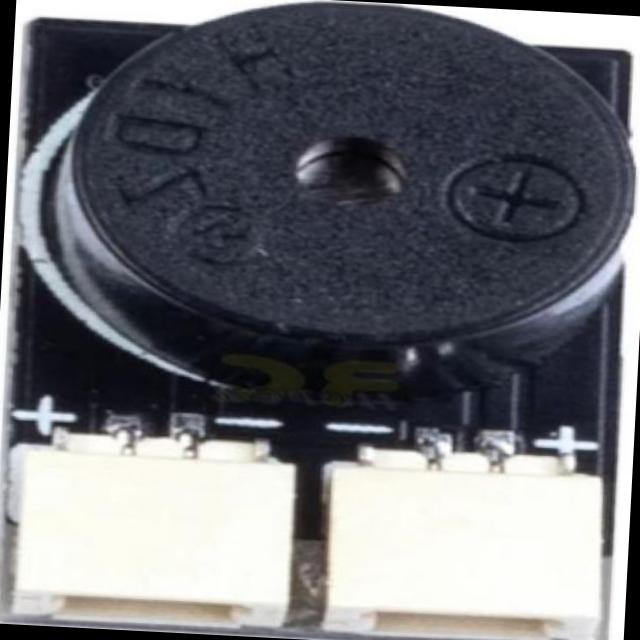connector: (0, 411, 294, 634), (314, 433, 610, 640)
